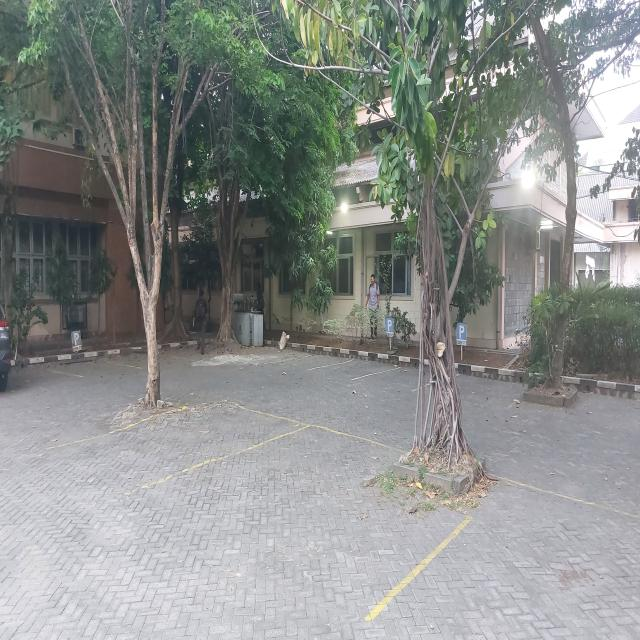empty: (362, 476, 639, 640), (123, 423, 415, 554), (45, 398, 312, 496), (458, 375, 528, 409), (351, 366, 431, 393), (307, 359, 402, 381)
